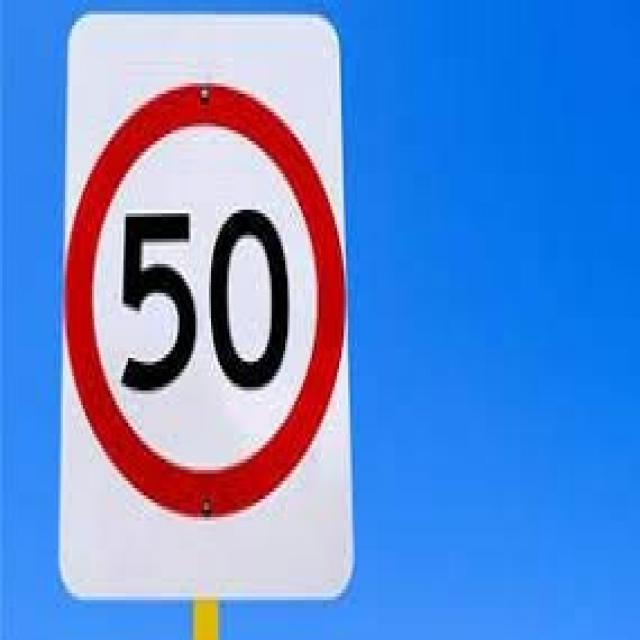speed_limit_50: (59, 65, 359, 528)
